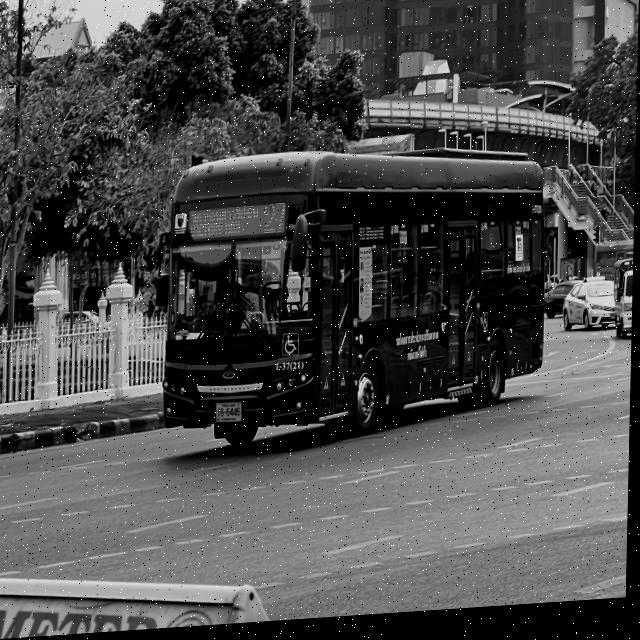Bus Line Number: (262, 201, 291, 243)
Bus Side Number: (273, 363, 307, 377)
Destination Sign: (188, 203, 260, 248)
TSB-Bus: (164, 156, 547, 453)
